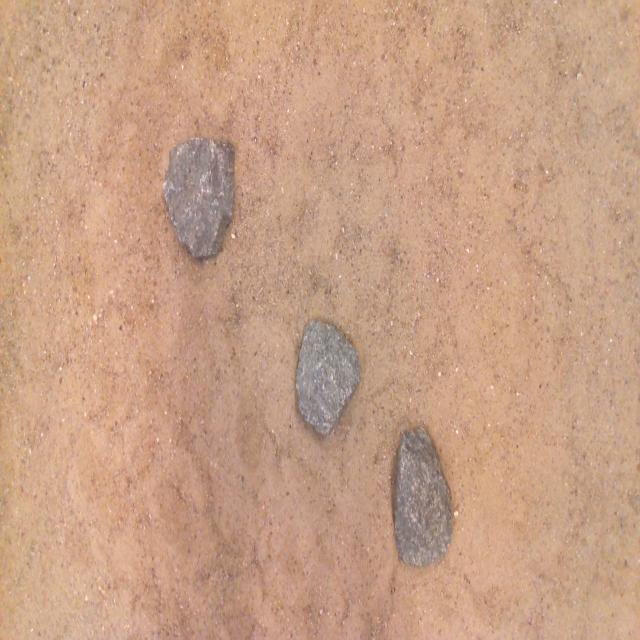rock: (164, 137, 234, 257), (394, 428, 452, 566), (296, 321, 360, 435)
